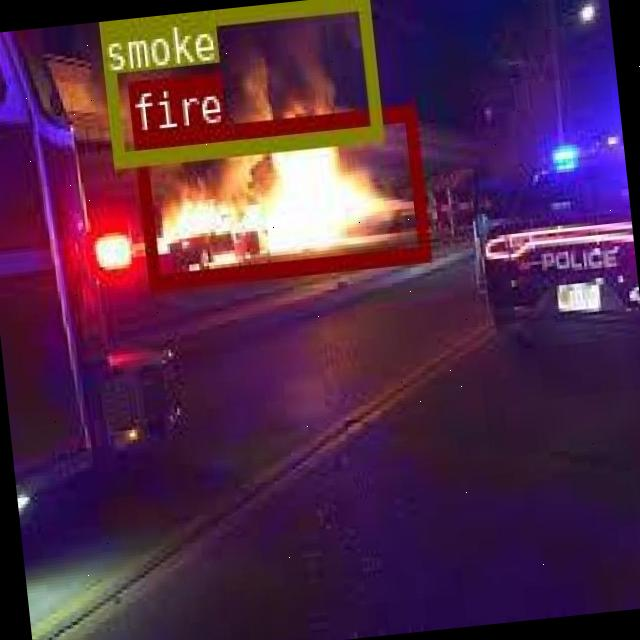fire: (132, 102, 427, 286)
smoke: (97, 0, 382, 163)
